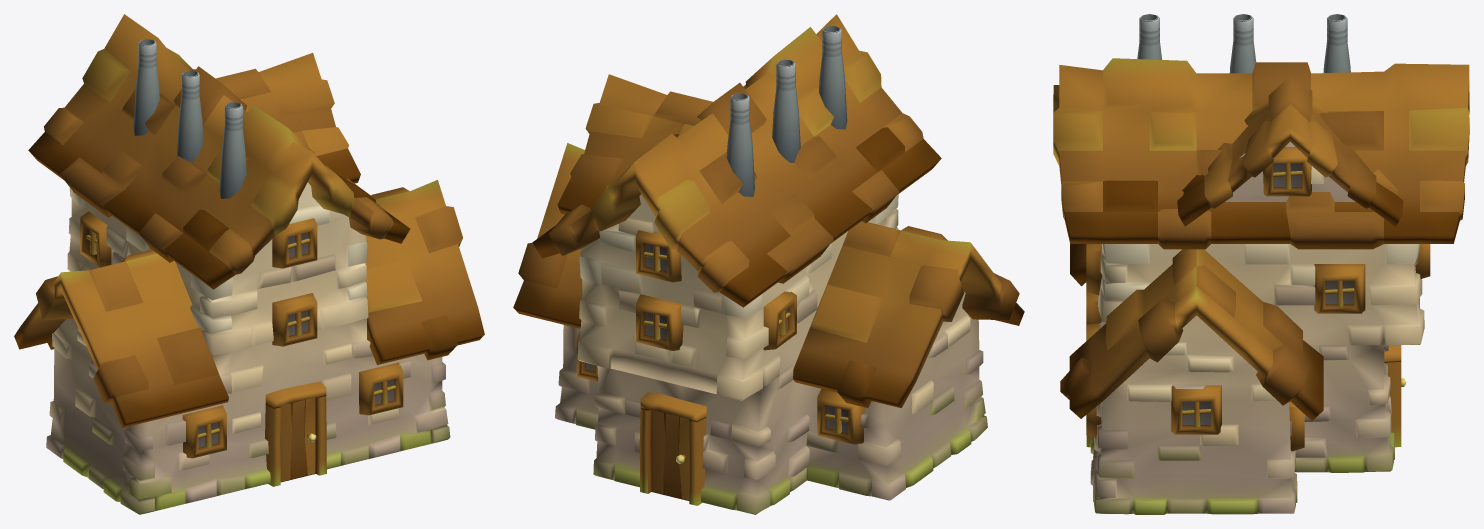
The model's file is houseLrg_A.fbx.
3 renders of one model, left to right at view 1: azimuth 30°, elevation 25°; view 2: azimuth 150°, elevation 25°; view 3: azimuth 270°, elevation 25°, orthographic. The views are drawn at different scales.
Parts seen in each view (by area): view 1: houseLrg_A; view 2: houseLrg_A; view 3: houseLrg_A.
Part boxes in pixels (x1,y1,x2,y2): houseLrg_A: (14,14,484,514); houseLrg_A: (513,14,1024,514); houseLrg_A: (1053,14,1469,514).
Bounding box in the file's own units: 1022 × 931 × 888.
